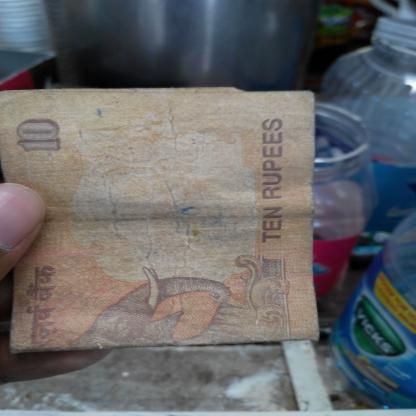Old10Back: (0, 85, 322, 356)
